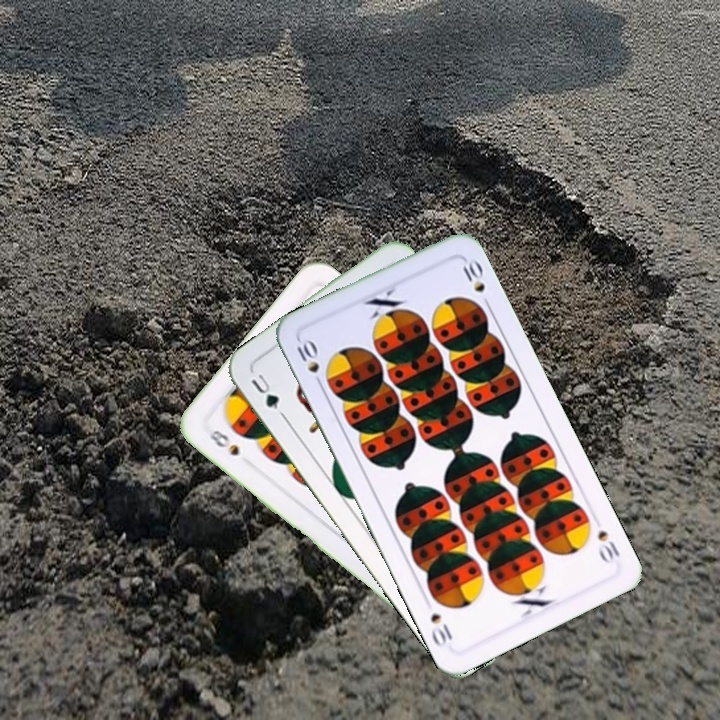GU: (246, 369, 287, 420)
S10: (292, 335, 326, 391), (593, 526, 623, 566)
S8: (204, 425, 242, 459)
